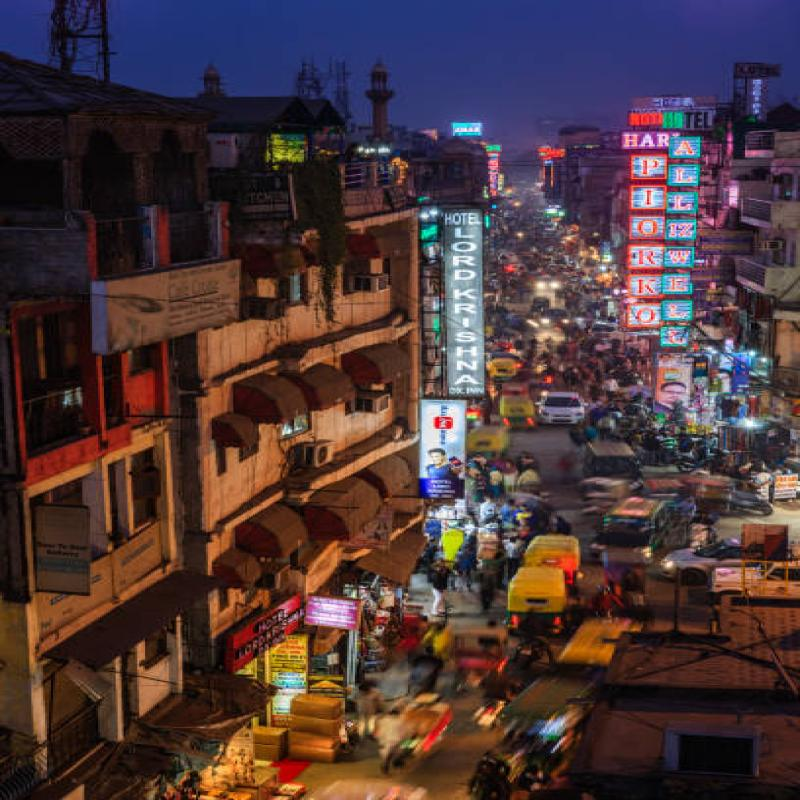auto: (508, 551, 572, 638), (499, 529, 595, 582)
